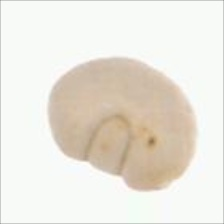L5: (119, 54, 191, 105), (82, 112, 131, 177)
L6: (45, 55, 200, 198)
